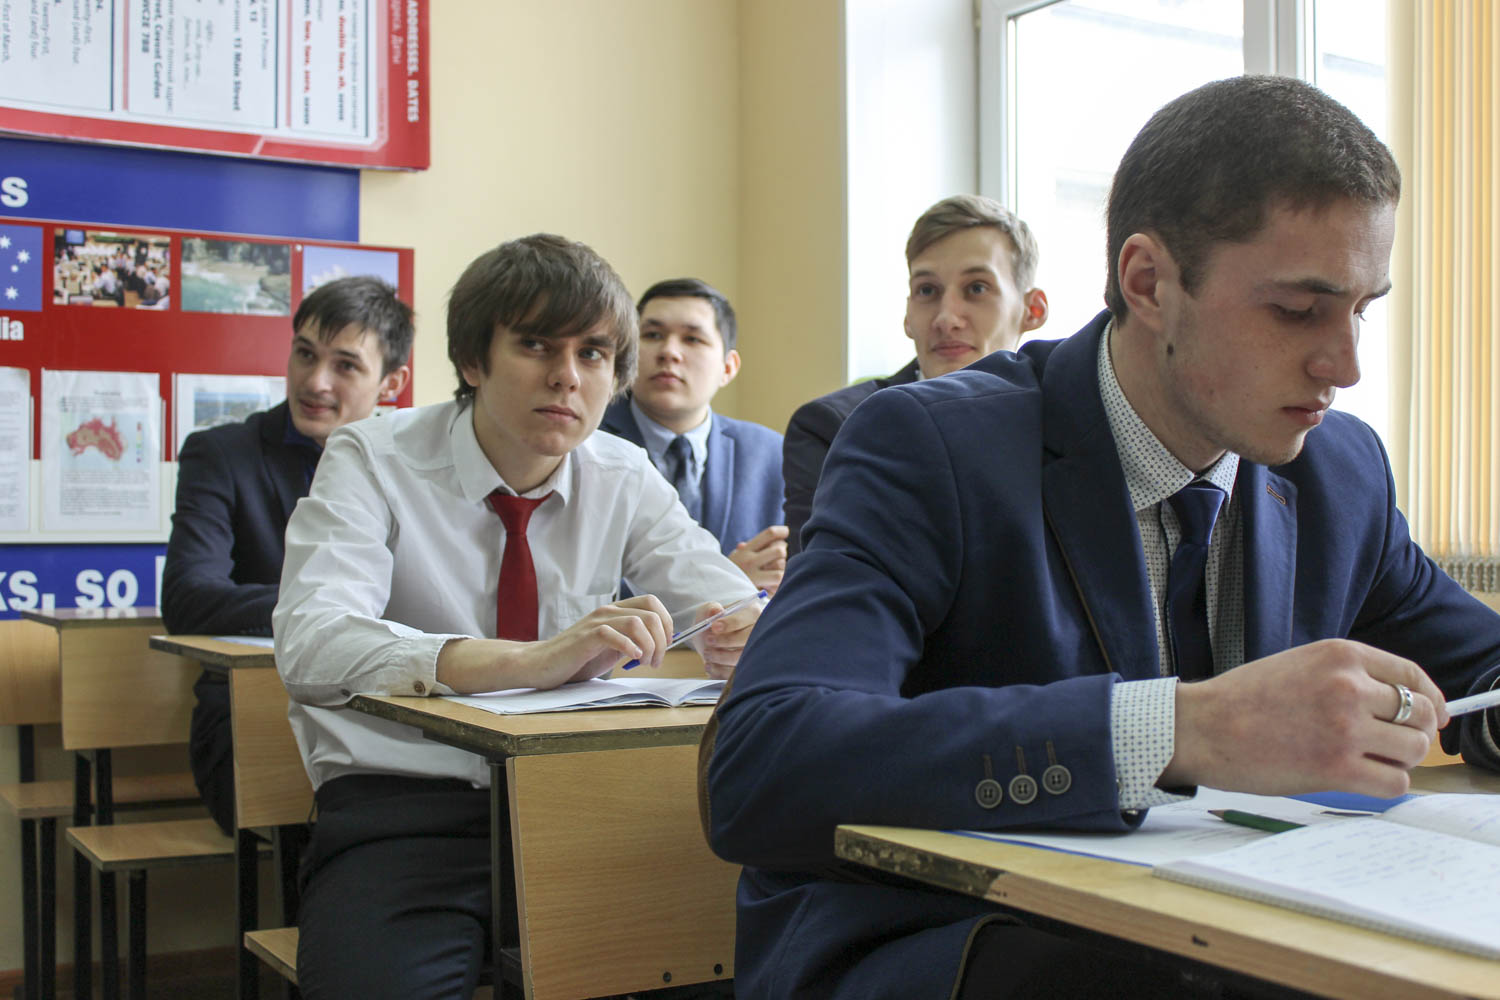students: (700, 74, 1500, 987), (271, 233, 771, 993), (163, 276, 418, 837), (786, 195, 1049, 557), (602, 278, 785, 589)
